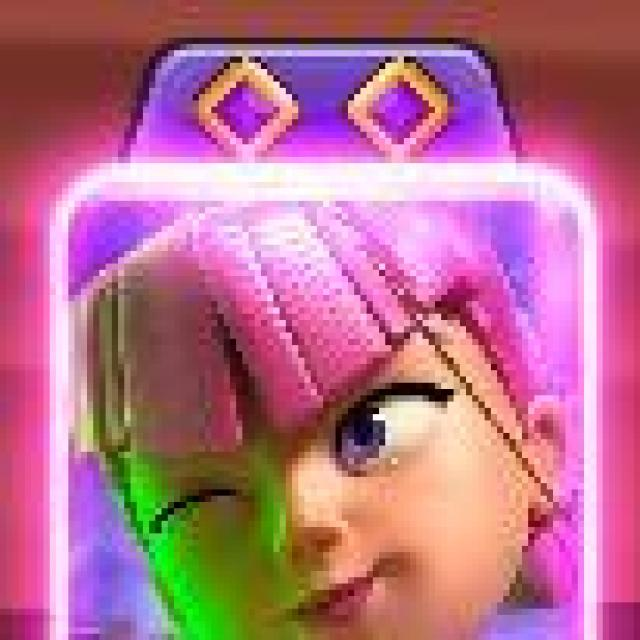Evolved_Archers: (46, 159, 603, 640)
